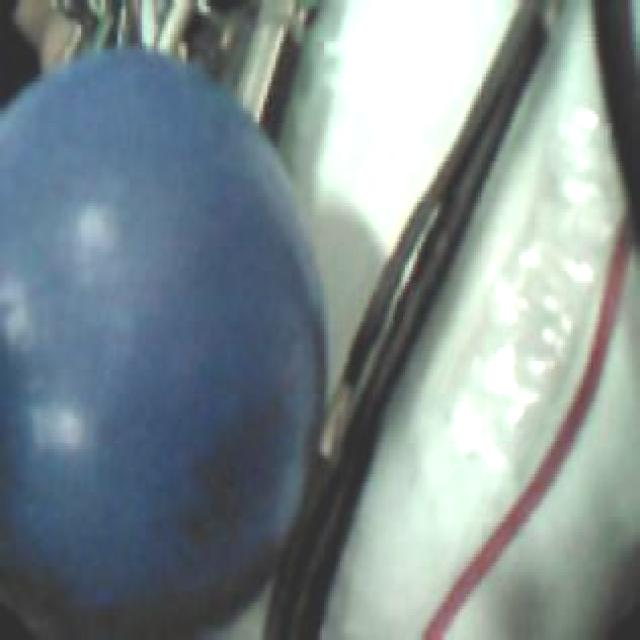BallPurple: (4, 50, 328, 633)
